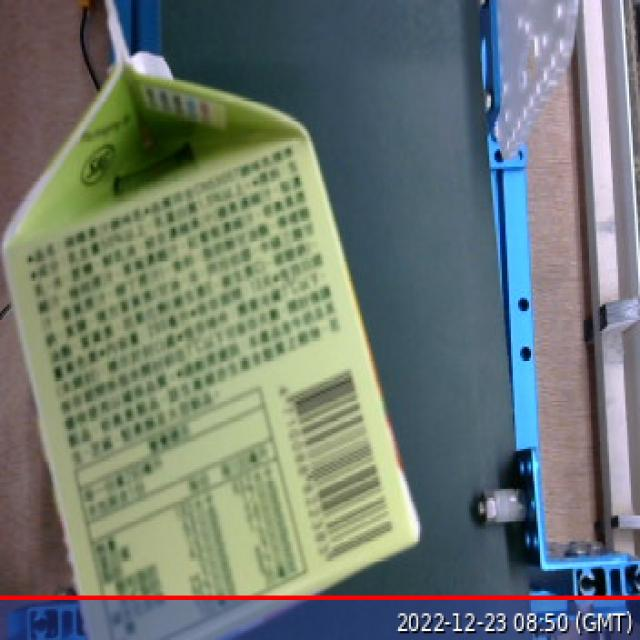non_white_jug: (0, 2, 440, 640)
